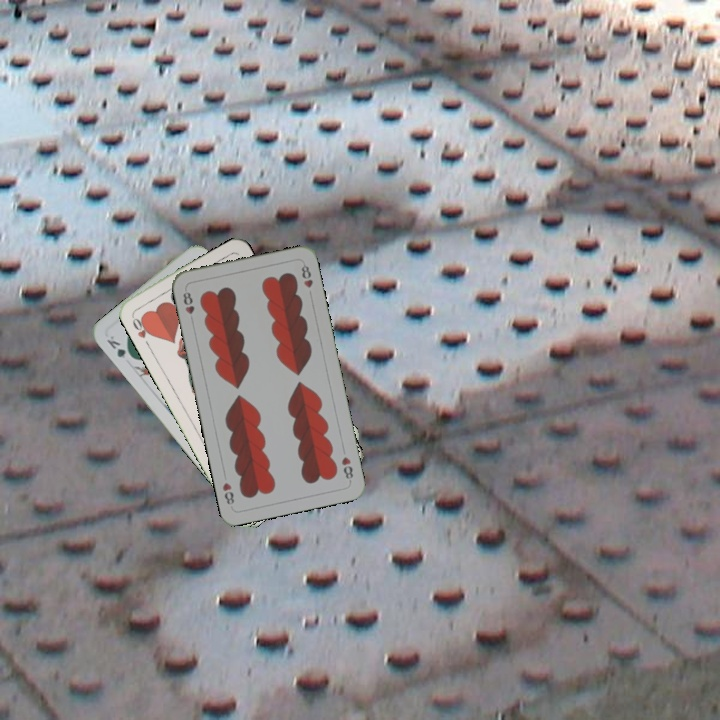GK: (102, 331, 137, 362)
H8: (179, 288, 197, 325), (337, 453, 356, 484)
HO: (127, 310, 155, 348)
